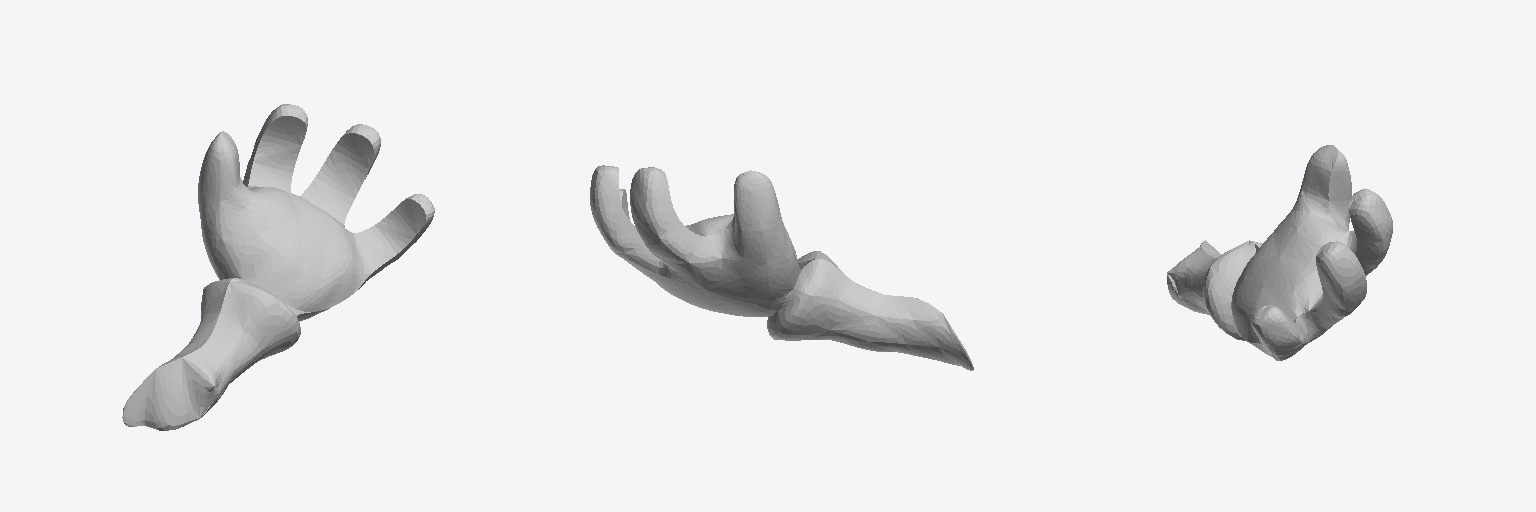
Rendered from hand.obj.
The picture shows the model from 3 angles: view 1: azimuth 30°, elevation 25°; view 2: azimuth 150°, elevation 25°; view 3: azimuth 270°, elevation 25°; orthographic projection.
Parts seen in each view (by area): view 1: lolMesh_heimerdinger; view 2: lolMesh_heimerdinger; view 3: lolMesh_heimerdinger.
Part boxes in pixels (x1,y1,x2,y2): lolMesh_heimerdinger: (122, 104, 434, 430); lolMesh_heimerdinger: (590, 165, 973, 370); lolMesh_heimerdinger: (1167, 145, 1392, 360).
Bounding box in the file's own units: 0.9474 × 0.573 × 0.5497.